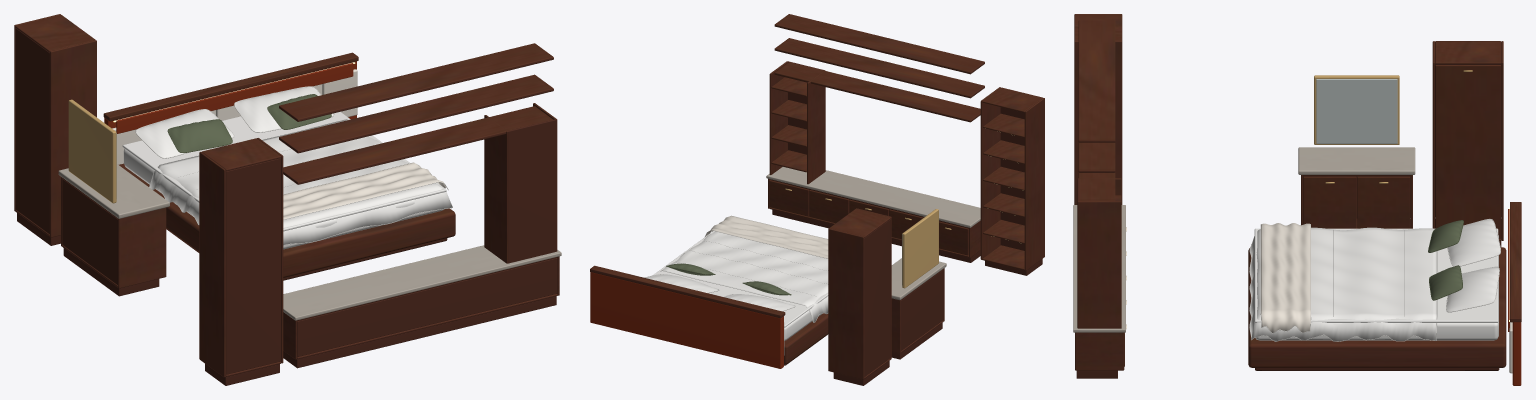
Rendered from bedroom.glb.
3 views of the same model, side by side, from view 1: azimuth 30°, elevation 25°; view 2: azimuth 150°, elevation 25°; view 3: azimuth 270°, elevation 25° (orthographic). The views are drawn at different scales.
Parts seen in each view (by area): view 1: Cabinet horizontal.016, Recessed cabinet back.008, Box-quilted white duvet, Recessed cabinet back.007, Chamfered platform, Cabinet horizontal.014, Cabinet horizontal.010, Recessed cabinet back.005, Granite cabinet top, Avena Linen foot runner, Recessed cabinet back.006, Cabinet horizontal.012 (+6 smaller); view 2: Cabinet horizontal.016, Cabinet horizontal.014, Recessed terracotta accent, Box-quilted white duvet, Cabinet horizontal.010, Granite cabinet top, Recessed cabinet back.005, Chamfered platform, Recessed cabinet back.006, Avena Linen foot runner, Satin pull.012, Recessed cabinet back.007 (+5 smaller); view 3: Box-quilted white duvet, Cabinet horizontal.016, Cabinet horizontal.010, Chamfered platform, Cabinet horizontal.012, Avena Linen foot runner, Sliding mirror inset, Vanity surface, Cabinet horizontal.014, Olive accent cushion, Granite cabinet top, Avena Linen foot runner sewn side hem (+5 smaller).
Boxes of the visible parts, x1,y1,x2,y2 form: Cabinet horizontal.016: (279, 43, 559, 359); Recessed cabinet back.008: (283, 119, 557, 368); Box-quilted white duvet: (122, 87, 452, 249); Recessed cabinet back.007: (205, 158, 280, 385); Chamfered platform: (103, 52, 455, 277); Cabinet horizontal.014: (199, 138, 283, 377); Cabinet horizontal.010: (14, 14, 96, 237); Recessed cabinet back.005: (15, 28, 60, 245); Granite cabinet top: (283, 245, 561, 320); Avena Linen foot runner: (112, 69, 447, 219); Recessed cabinet back.006: (62, 179, 159, 296); Cabinet horizontal.012: (61, 177, 166, 288); Cabinet horizontal.016: (768, 14, 984, 257); Cabinet horizontal.014: (980, 87, 1044, 270); Recessed terracotta accent: (590, 272, 783, 368); Box-quilted white duvet: (645, 231, 828, 340); Cabinet horizontal.010: (828, 208, 891, 379); Granite cabinet top: (766, 167, 980, 227); Recessed cabinet back.005: (833, 219, 890, 385); Chamfered platform: (590, 265, 828, 363); Recessed cabinet back.006: (891, 269, 943, 359); Avena Linen foot runner: (705, 216, 828, 355); Satin pull.012: (902, 209, 938, 288); Recessed cabinet back.007: (985, 107, 1042, 275); Box-quilted white duvet: (1249, 219, 1500, 341); Cabinet horizontal.016: (1075, 20, 1124, 370); Cabinet horizontal.010: (1432, 41, 1503, 240); Chamfered platform: (1248, 202, 1521, 367); Cabinet horizontal.012: (1301, 175, 1412, 228); Avena Linen foot runner: (1261, 223, 1512, 373); Sliding mirror inset: (1316, 79, 1397, 143); Vanity surface: (1298, 147, 1415, 174); Cabinet horizontal.014: (1074, 14, 1122, 204); Olive accent cushion: (1428, 220, 1463, 299); Granite cabinet top: (1073, 205, 1125, 332); Avena Linen foot runner sewn side hem: (1249, 218, 1500, 341).
Size of the model in its own units: 3.13 by 2.05 by 3.5.
Materials: 12 (2 with a texture image).
